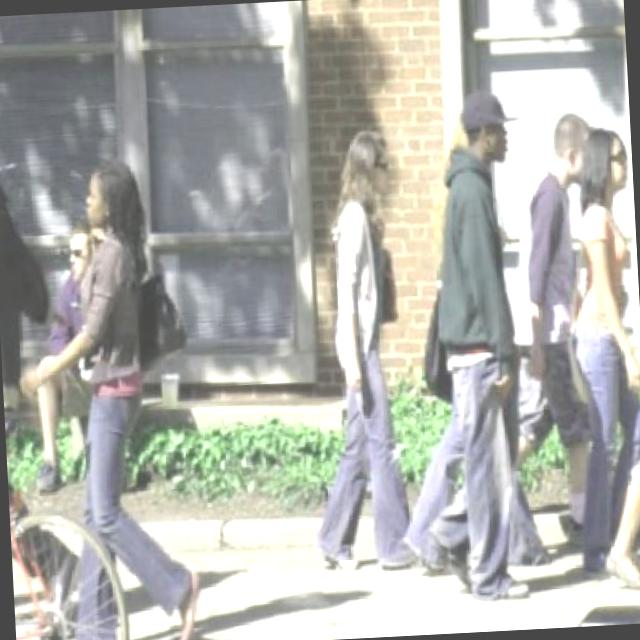Person: (8, 158, 201, 640), (422, 87, 548, 598), (294, 127, 422, 578), (520, 112, 617, 550), (550, 125, 640, 567)
